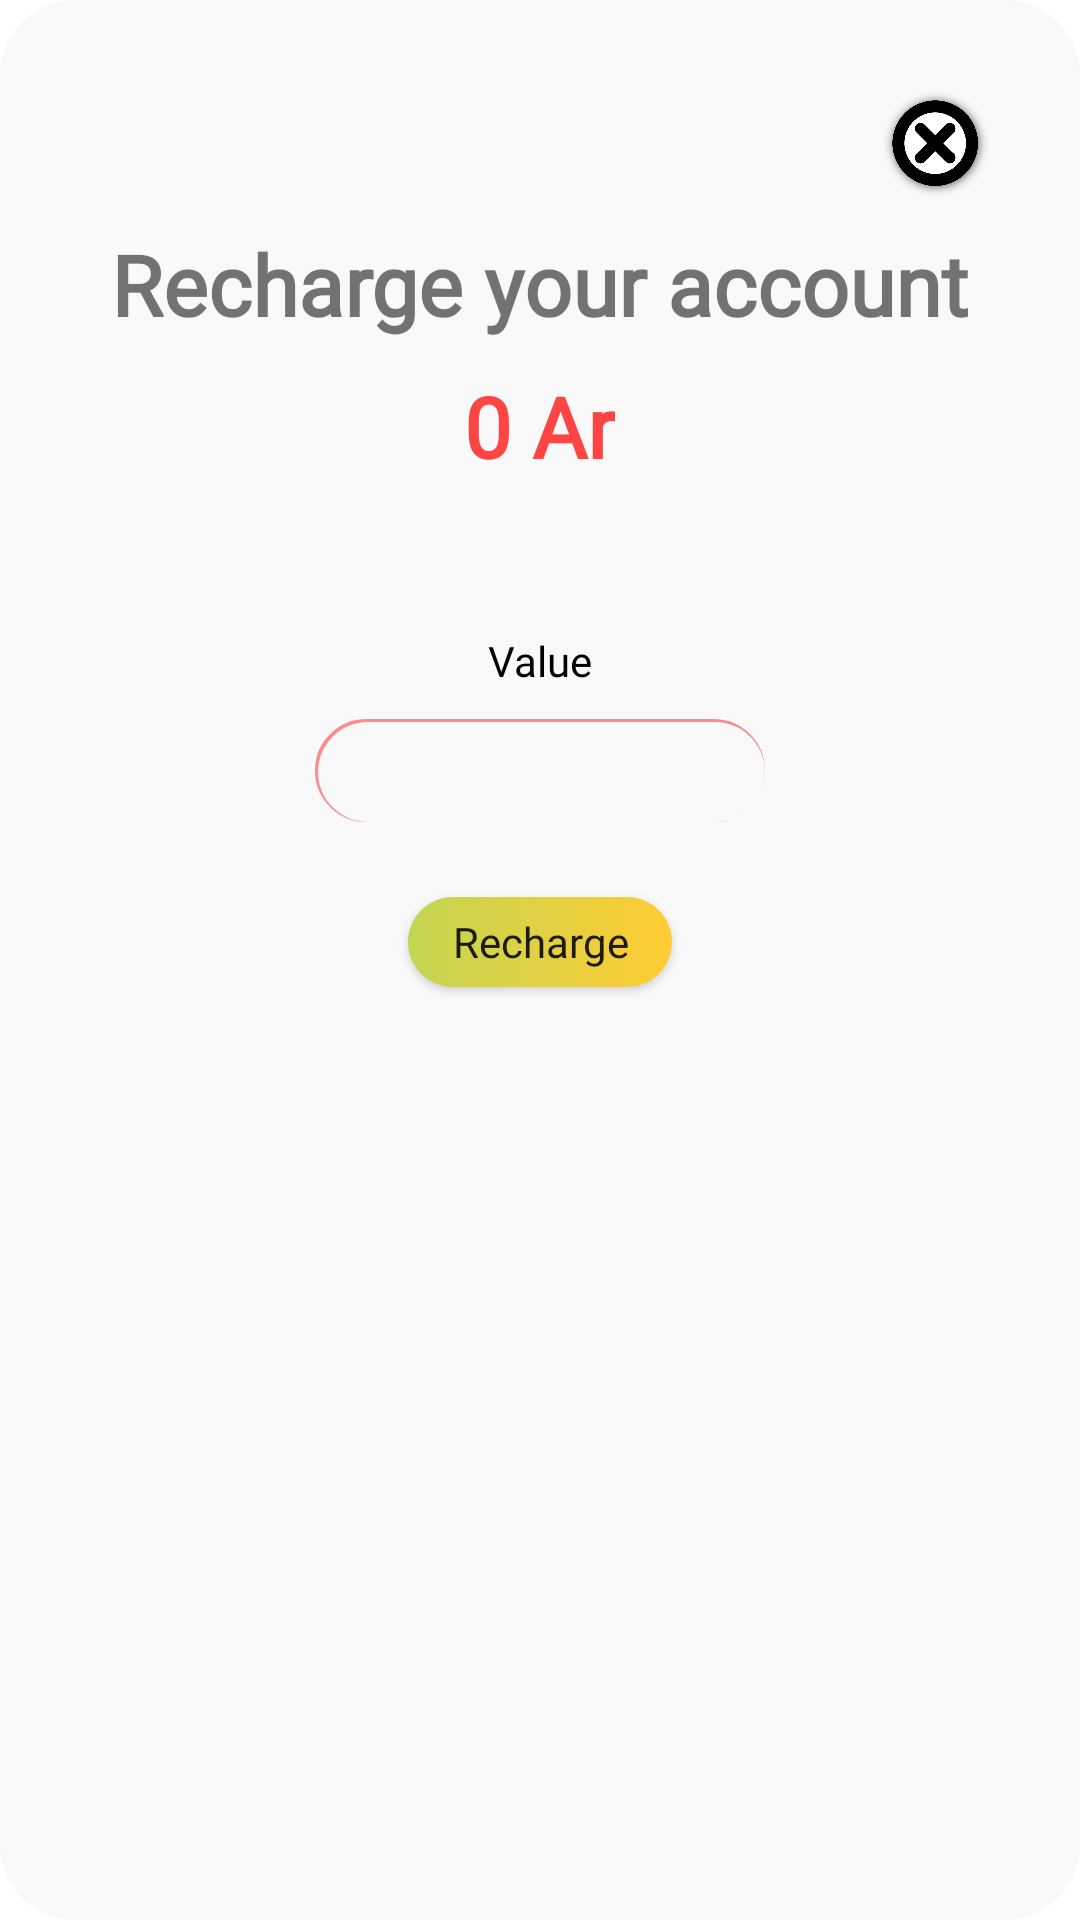

Where to tap for icons on this 1080x1920 app screen, as [x,y]:
close: [936,144]
